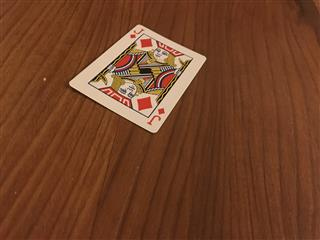JackOfDiamonds: (68, 23, 206, 134)
